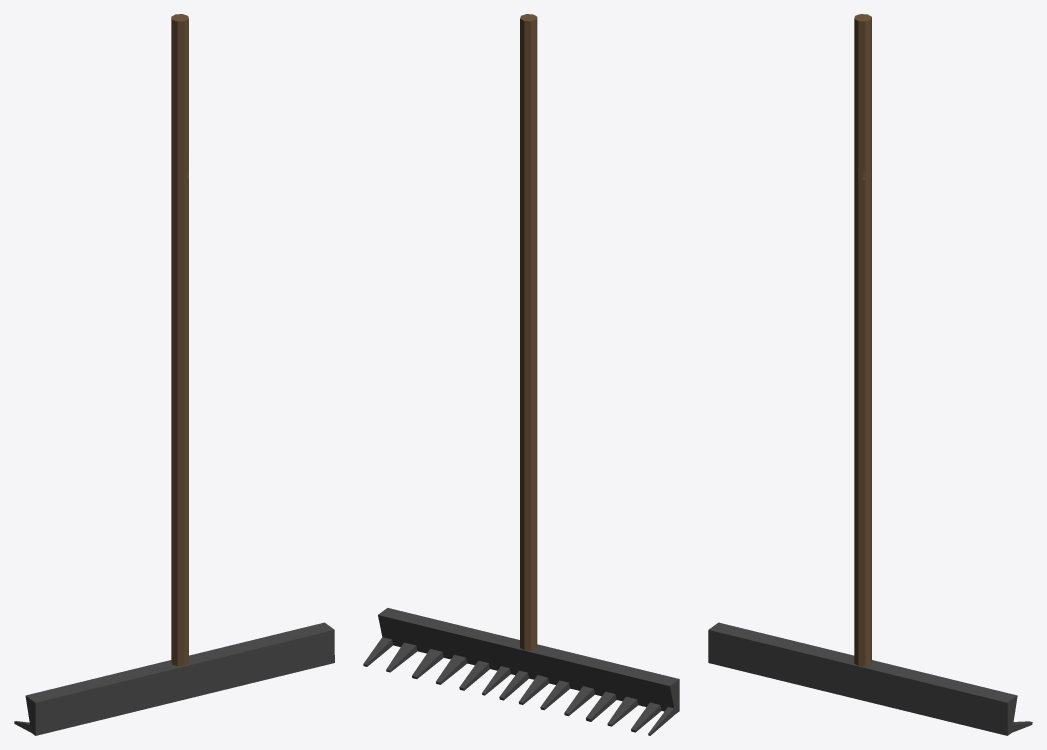
Rendered from rake.fbx.
3 renders of one model, left to right at view 1: azimuth 30°, elevation 25°; view 2: azimuth 150°, elevation 25°; view 3: azimuth 330°, elevation 25°, orthographic. The views are drawn at different scales.
Parts seen in each view (by area): view 1: rake; view 2: rake; view 3: rake.
Part boxes in pixels (left/top/right/bottom): rake: left=14, top=14, right=334, bottom=735; rake: left=363, top=14, right=679, bottom=735; rake: left=708, top=14, right=1032, bottom=735.
Bounding box in the file's own units: 3.44 × 7.53 × 0.5188.
Materials: 1 (1 with a texture image).
